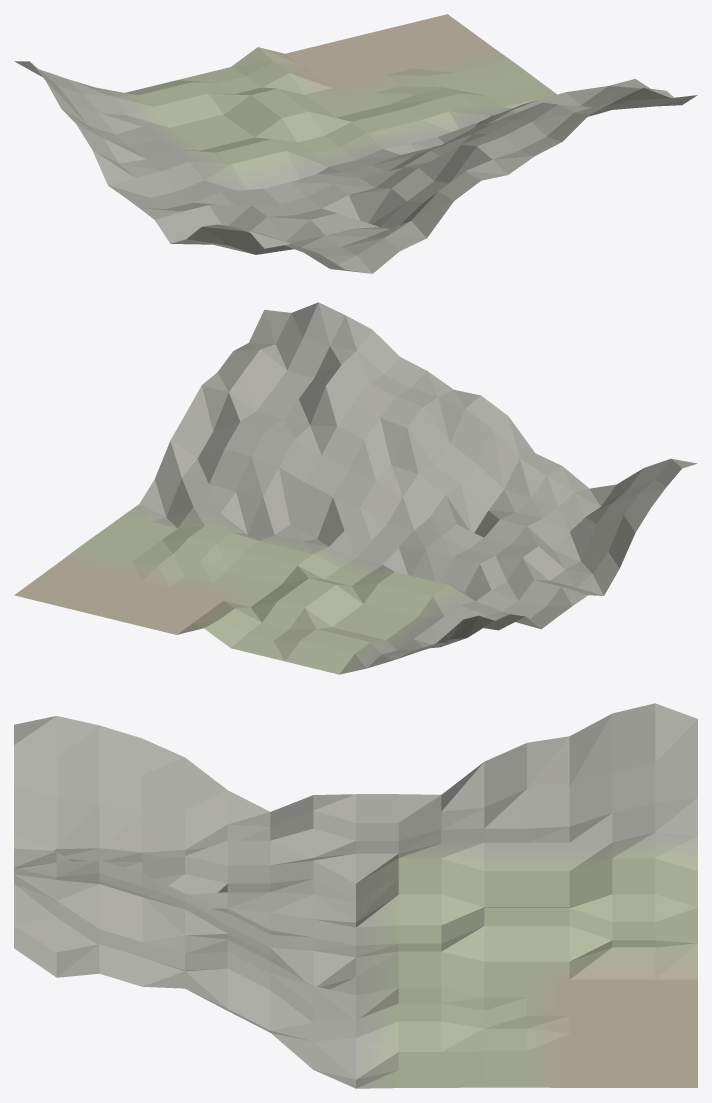
3 renders of one model, top to bottom at view 1: azimuth 30°, elevation 25°; view 2: azimuth 150°, elevation 25°; view 3: azimuth 270°, elevation 25°, orthographic. The views are drawn at different scales.
Size of the model in its own units: 32 by 9.48 by 32.
